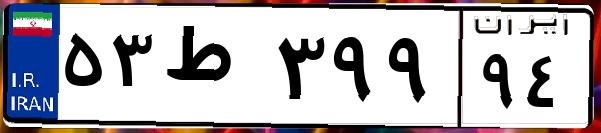3: (270, 28, 330, 110), (110, 28, 158, 98)
4: (525, 38, 570, 115)
5: (57, 26, 110, 100)
9: (385, 28, 445, 110), (330, 28, 385, 110), (475, 38, 525, 113)
ط: (158, 20, 270, 120)
